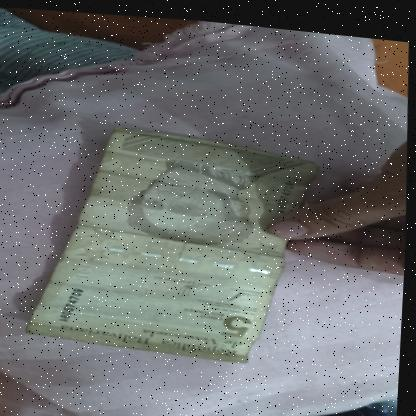five-front-vef: (20, 109, 329, 371)
